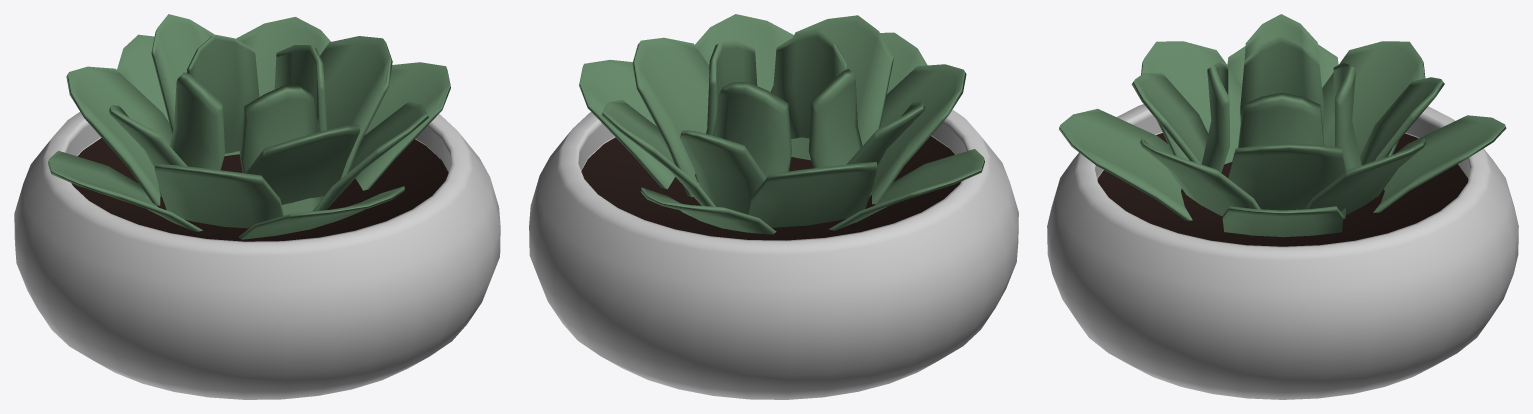
Rendered from tanaman ikea 2.fbx.
The picture shows the model from 3 angles, left to right: view 1: azimuth 30°, elevation 25°; view 2: azimuth 150°, elevation 25°; view 3: azimuth 270°, elevation 25°; orthographic projection. The views are drawn at different scales.
Parts seen in each view (by area): view 1: Sphere, Cube.007, Cube.005, Cube.008, Cube.011, Cube.012, Cube.013, Cube.001, Cube.014, Cube.010, Cube, Cube.006 (+5 smaller); view 2: Sphere, Cube.008, Cube.005, Cube.007, Cube.011, Cube.012, Cube.013, Cube.010, Cube.014, Cube.001, Cube, Cube.004 (+5 smaller); view 3: Sphere, Cube.002, Cube.008, Cube.005, Cube.007, Cube.003, Cube.014, Cube.015, Cube.011, Cube.001, Cube.004, Cube.006 (+5 smaller).
Boxes of the visible parts, x1,y1,x2,y2 form: Sphere: [14, 112, 500, 399]; Cube.007: [154, 163, 283, 228]; Cube.005: [66, 66, 171, 205]; Cube.008: [320, 36, 392, 178]; Cube.011: [245, 124, 360, 204]; Cube.012: [186, 34, 259, 153]; Cube.013: [240, 85, 323, 215]; Cube.001: [355, 62, 450, 190]; Cube.014: [159, 72, 224, 199]; Cube.010: [151, 14, 240, 155]; Cube: [48, 150, 202, 231]; Cube.006: [236, 17, 330, 96]; Sphere: [529, 109, 1018, 399]; Cube.008: [632, 37, 709, 196]; Cube.005: [747, 162, 877, 227]; Cube.007: [872, 64, 966, 204]; Cube.011: [771, 15, 893, 160]; Cube.012: [714, 82, 791, 177]; Cube.013: [773, 31, 847, 138]; Cube.010: [680, 130, 766, 214]; Cube.014: [808, 69, 872, 196]; Cube.001: [579, 59, 675, 189]; Cube: [829, 149, 984, 230]; Cube.004: [695, 14, 793, 91]; Sphere: [1047, 104, 1518, 399]; Cube.002: [1059, 108, 1192, 220]; Cube.008: [1228, 143, 1346, 218]; Cube.005: [1322, 41, 1425, 156]; Cube.007: [1141, 41, 1242, 164]; Cube.003: [1373, 115, 1506, 212]; Cube.014: [1240, 36, 1323, 133]; Cube.015: [1238, 92, 1324, 147]; Cube.011: [1131, 73, 1208, 164]; Cube.001: [1222, 206, 1343, 237]; Cube.004: [1140, 138, 1260, 216]; Cube.006: [1305, 138, 1425, 215].
Size of the model in its own units: 282 by 184 by 282.
